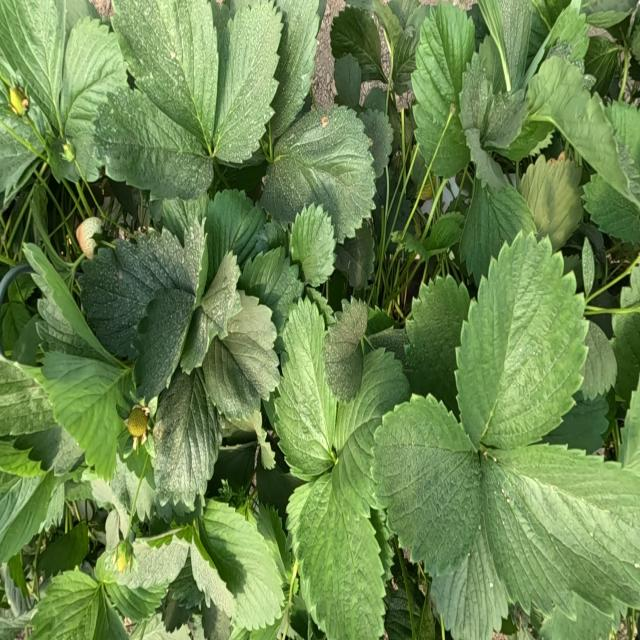Leaves: (458, 235, 587, 449), (482, 445, 638, 617), (374, 397, 482, 569), (290, 469, 384, 639), (112, 0, 218, 149), (80, 229, 193, 357), (526, 57, 628, 191), (96, 87, 212, 198), (335, 349, 411, 509), (196, 501, 283, 630), (273, 298, 336, 476), (60, 18, 127, 181), (294, 105, 375, 239), (213, 4, 280, 164), (411, 6, 474, 176), (41, 352, 127, 475), (204, 293, 279, 422), (152, 372, 219, 505), (404, 276, 470, 408), (0, 1, 65, 129), (431, 531, 507, 638), (23, 244, 97, 348), (461, 181, 535, 282), (133, 287, 194, 401), (181, 252, 239, 370), (271, 1, 319, 135), (519, 156, 582, 251), (238, 246, 304, 332), (1, 470, 60, 563), (479, 0, 533, 99), (372, 0, 428, 95), (205, 189, 265, 274), (31, 568, 100, 639), (0, 92, 44, 196), (324, 299, 367, 402), (1, 357, 55, 435), (330, 6, 384, 82), (611, 265, 640, 400), (259, 155, 314, 226), (584, 173, 639, 242), (459, 38, 495, 141), (291, 204, 336, 284), (124, 536, 187, 591), (190, 543, 236, 617), (541, 596, 619, 639), (546, 0, 589, 75), (37, 523, 88, 578), (580, 321, 615, 399), (335, 221, 374, 289), (106, 583, 166, 620), (361, 108, 393, 177), (162, 195, 208, 242), (183, 213, 205, 299), (93, 588, 129, 639), (620, 379, 640, 470), (424, 213, 464, 255), (334, 54, 361, 108), (368, 328, 406, 362)
Strawberries: (77, 218, 101, 257), (126, 408, 147, 437), (9, 86, 29, 116), (116, 550, 130, 571)
